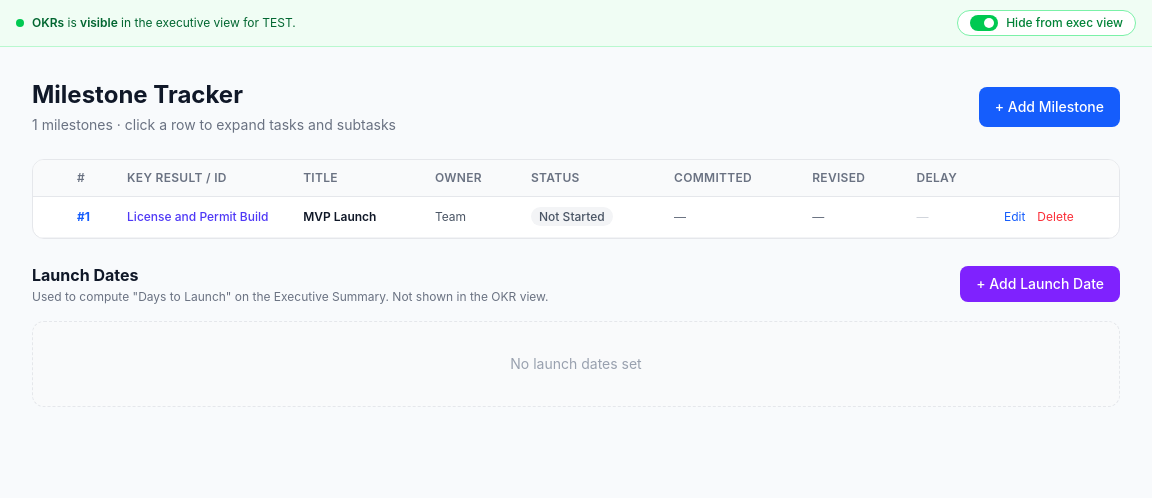
it: OKREditor › T-32.05: Delete button removes the milestone
This screenshot has width=1152, height=498.
Expected: the text "MVP Launch" is shown, [291,196,423,238]
Click the button "Delete" at (1056, 217), box [1037,209,1074,225]
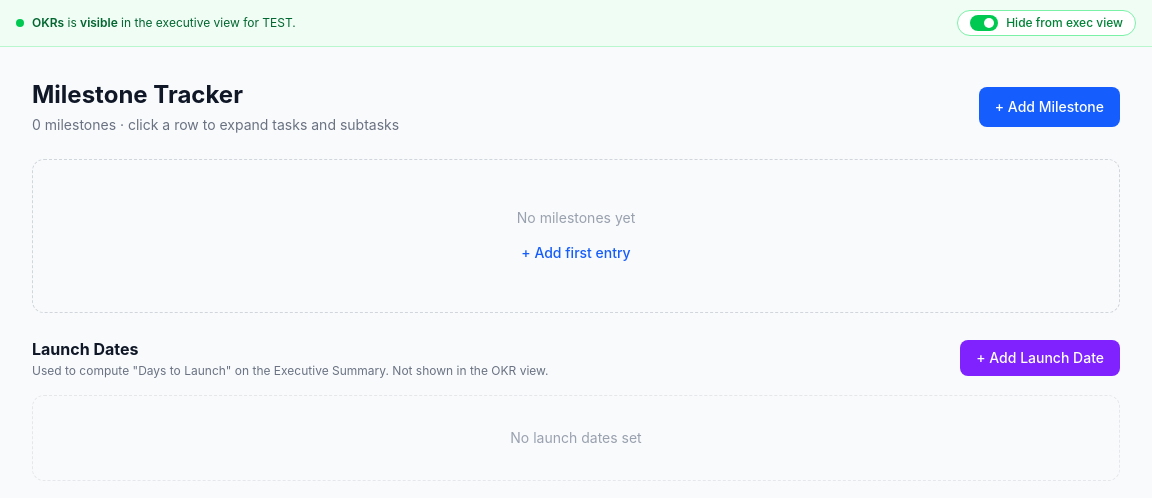
Expected: the text "MVP Launch" is gone
